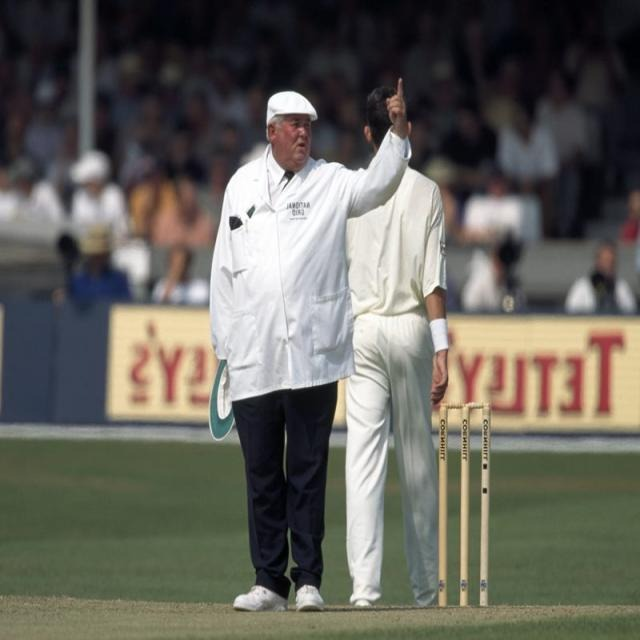Out: (202, 63, 415, 614)
